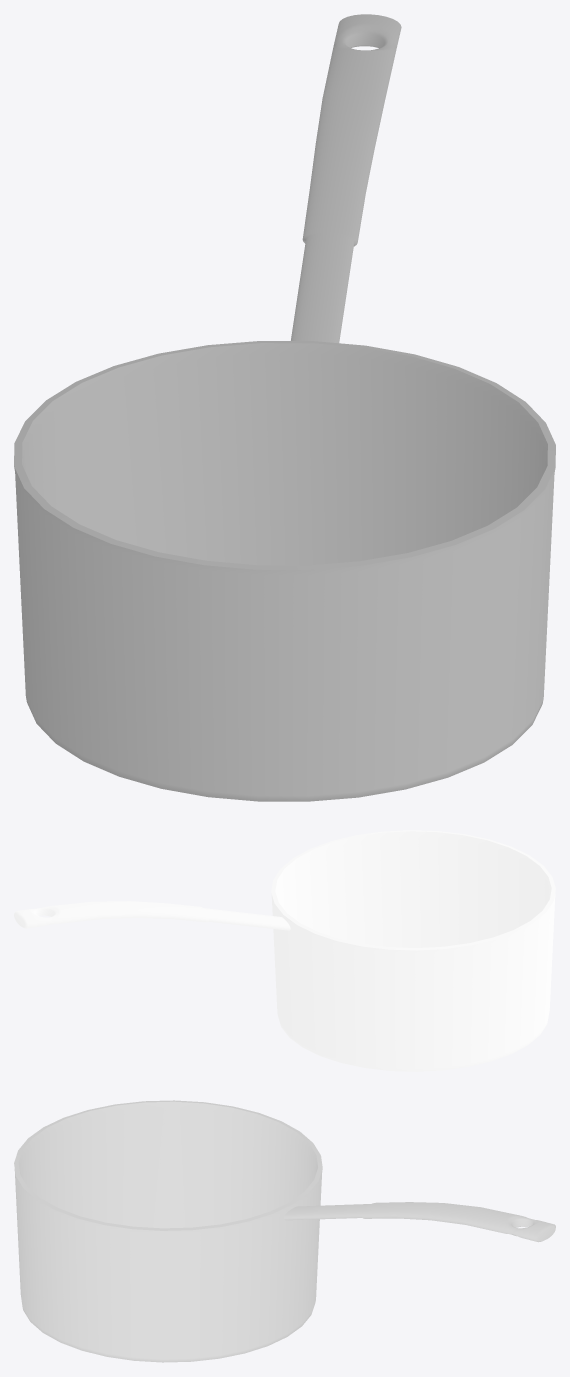
The model's file is Pot_1676748a.obj.
The picture shows the model from 3 angles, top to bottom: view 1: azimuth 30°, elevation 25°; view 2: azimuth 150°, elevation 25°; view 3: azimuth 270°, elevation 25°; orthographic projection. The views are drawn at different scales.
Parts seen in each view (by area): view 1: Pot_1676748a; view 2: Pot_1676748a; view 3: Pot_1676748a.
Part boxes in pixels (x1=…): Pot_1676748a: x1=14, y1=14, x2=555, y2=801; Pot_1676748a: x1=14, y1=830, x2=555, y2=1071; Pot_1676748a: x1=14, y1=1100, x2=555, y2=1362.
Bounding box in the file's own units: 0.3195 × 0.1537 × 0.3913.
